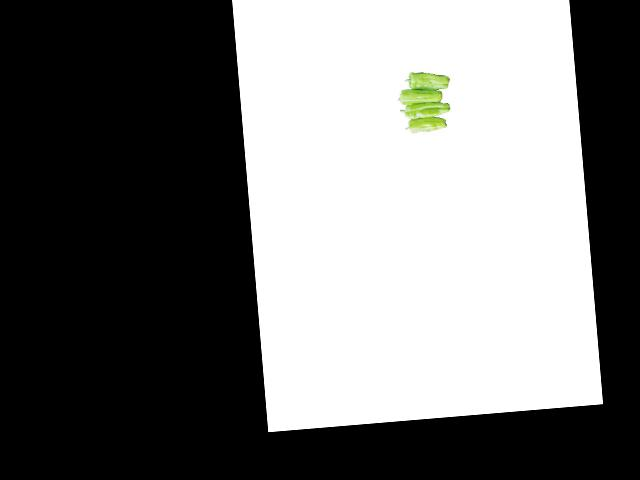bell_pepper: (402, 69, 454, 92)
